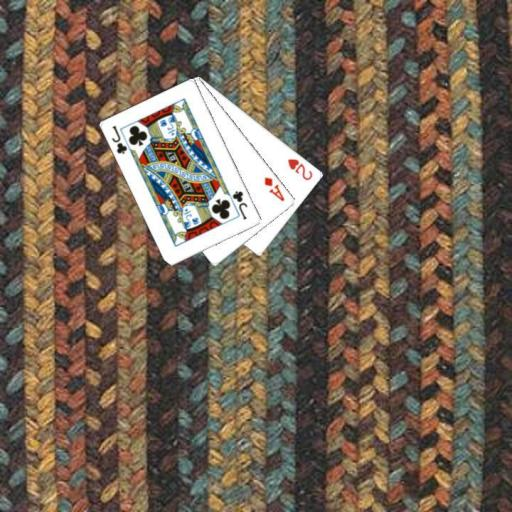2H: (285, 155, 315, 182)
AD: (261, 174, 287, 203)
JC: (229, 188, 250, 221), (109, 122, 129, 156)
